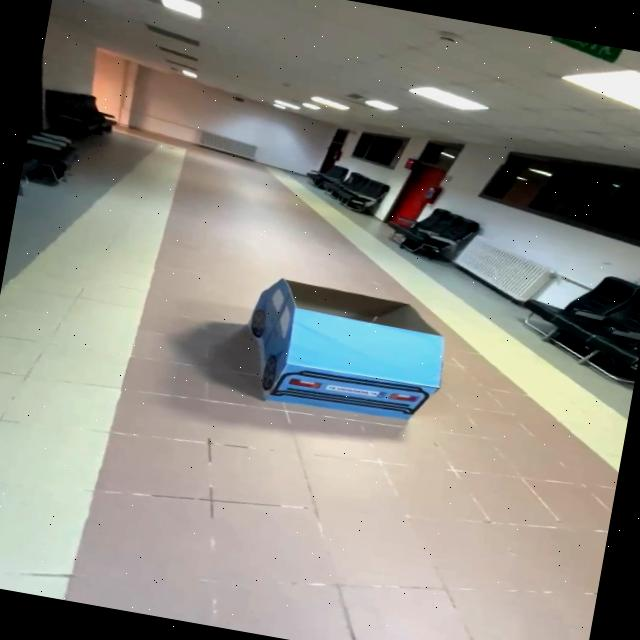blue_car: (181, 258, 489, 455)
